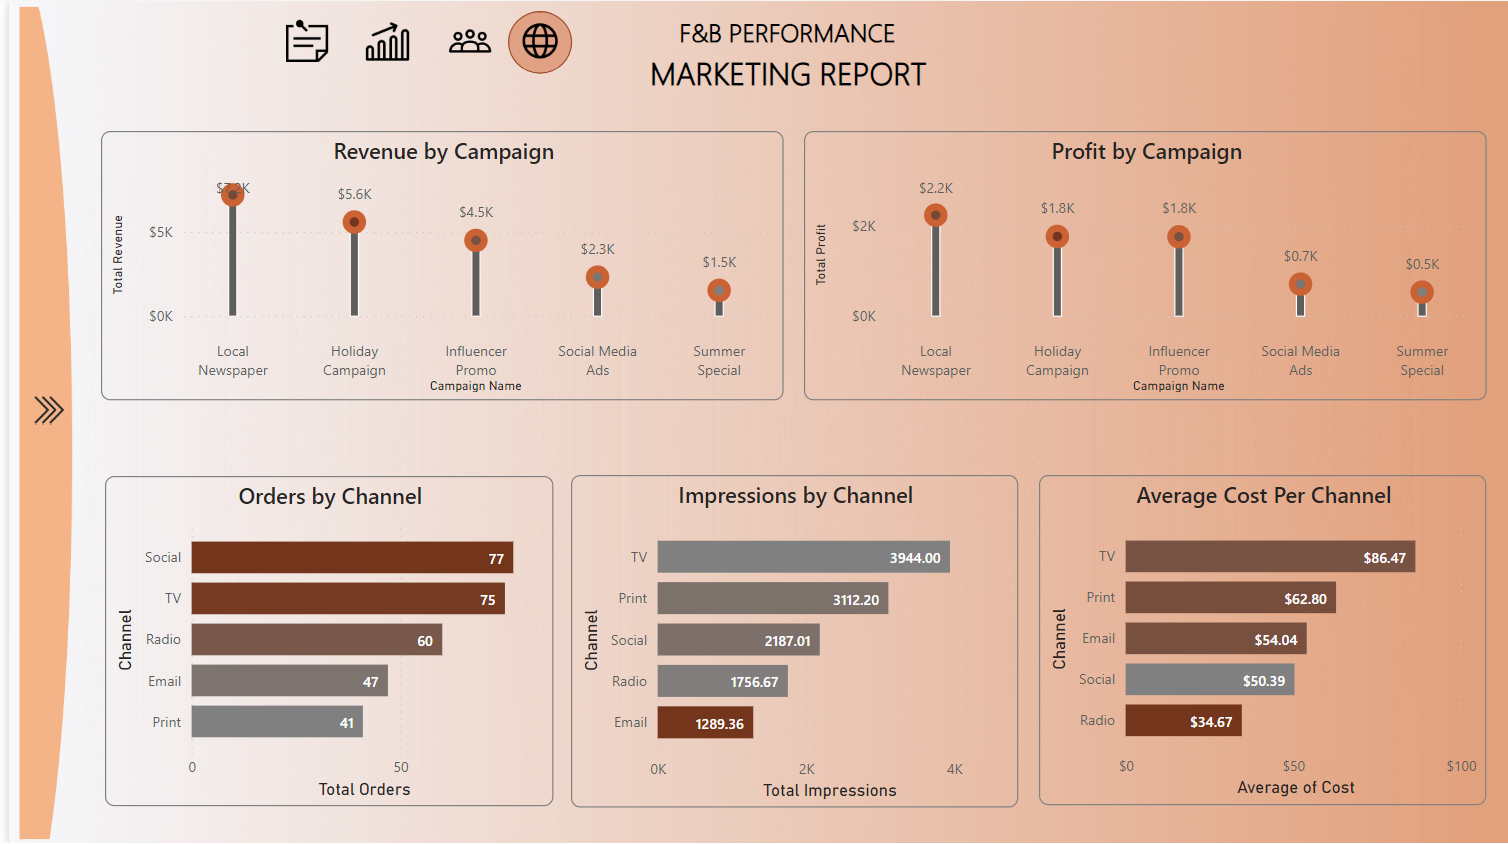

The page's visual inventory and layout, read from the dashboard file:
{"tool":"powerbi","page":{"name":"Marketing Report","canvas":[1280,720],"ordinal":3},"visuals":[{"type":"textbox","box":[482,0,360,98],"z":0,"group":"g1"},{"type":"shape","box":[426,8.7,54.8,53.6],"z":0},{"type":"group","id":"g1","title":"Group 1","box":[482,0,360,98],"z":3000},{"type":"image","box":[0,0,62,720],"z":14000},{"type":"clusteredBarChart","title":"Impressions by Channel","fields":{"Category":["Sales Table.Channel"],"Y":["Avg(Sales Table.Impressions)"]},"box":[480,404,382,284],"z":15000},{"type":"clusteredBarChart","title":"Average Cost Per Channel","fields":{"Y":["Avg(Sales Table.Cost)"],"Category":["Sales Table.Channel"]},"box":[880,404,382,282],"z":16000},{"type":"clusteredBarChart","title":"Orders by Channel","fields":{"Y":["CountNonNull(Sales Table.SaleID )"],"Category":["Sales Table.Channel"]},"box":[82.3,404.7,382.9,282.1],"z":17000},{"type":"lineChart","title":"Revenue by Campaign","fields":{"Category":["Sales Table.Campaign Name"],"Y":["Sum(Sales Table.Total Revenue)"]},"box":[78.9,111.3,583.5,230.2],"z":18000},{"type":"lineChart","title":"Profit by Campaign","fields":{"Category":["Sales Table.Campaign Name"],"Y":["Sum(Sales Table.Profit)"]},"box":[678.6,111.3,583.5,230.2],"z":19000},{"type":"image","box":[0,328.5,67.6,41.1],"z":21000},{"type":"image","box":[230.5,11.2,47.3,46],"z":25000},{"type":"image","box":[300,11,47,46],"z":26000},{"type":"image","box":[370,11,47,46],"z":27000},{"type":"image","box":[430,11,47,46],"z":28000}]}

Visuals, with their boxes in screenshot pixels (x1, y1, x2, y2), scaled from the page's 1280x720 canvas onto the 1508x844 screenshot:
textbox: bbox(568, 0, 992, 115)
shape: bbox(502, 10, 566, 73)
"Group 1" group: bbox(568, 0, 992, 115)
image: bbox(0, 0, 73, 843)
"Impressions by Channel" clusteredBarChart: bbox(566, 474, 1016, 806)
"Average Cost Per Channel" clusteredBarChart: bbox(1037, 474, 1487, 804)
"Orders by Channel" clusteredBarChart: bbox(97, 474, 548, 805)
"Revenue by Campaign" lineChart: bbox(93, 130, 780, 400)
"Profit by Campaign" lineChart: bbox(799, 130, 1487, 400)
image: bbox(0, 385, 80, 433)
image: bbox(272, 13, 327, 67)
image: bbox(353, 13, 409, 67)
image: bbox(436, 13, 491, 67)
image: bbox(507, 13, 562, 67)
